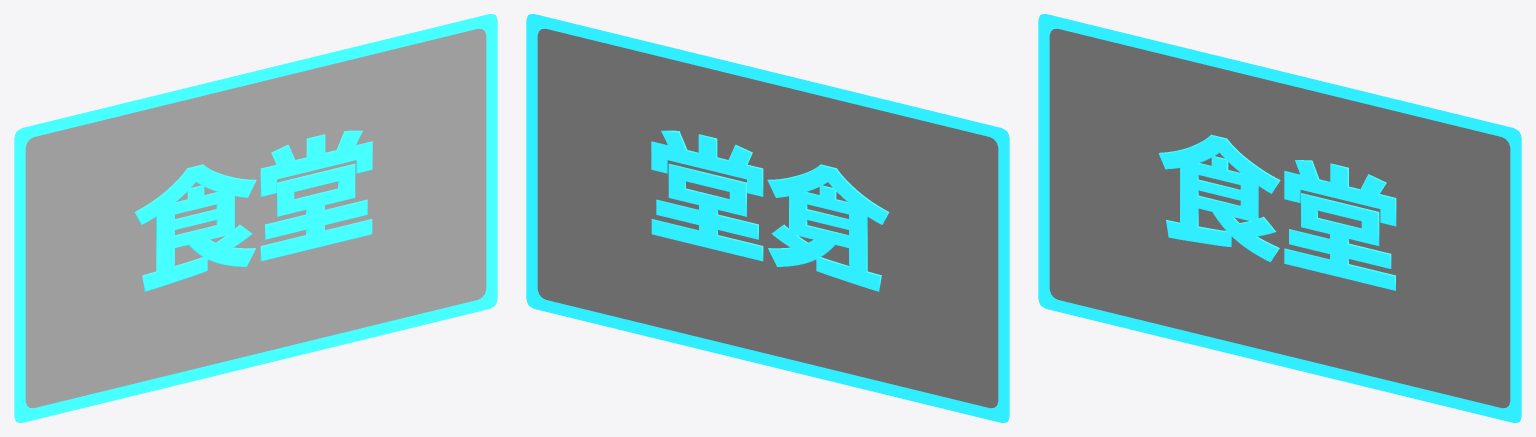
The model's file is TextPlate4.gltf.
The picture shows the model from 3 angles, left to right: view 1: azimuth 30°, elevation 25°; view 2: azimuth 150°, elevation 25°; view 3: azimuth 330°, elevation 25°; orthographic projection.
Parts seen in each view (by area): view 1: 平面, 食堂; view 2: 平面, 食堂; view 3: 平面, 食堂.
Boxes of the visible parts, x1=… form: 平面: x1=14, y1=14, x2=497, y2=422; 食堂: x1=134, y1=130, x2=372, y2=291; 平面: x1=526, y1=14, x2=1009, y2=422; 食堂: x1=651, y1=130, x2=889, y2=291; 平面: x1=1038, y1=14, x2=1521, y2=422; 食堂: x1=1158, y1=134, x2=1396, y2=290.
Bounding box in the file's own units: 2.65 × 1.55 × 0.01.
